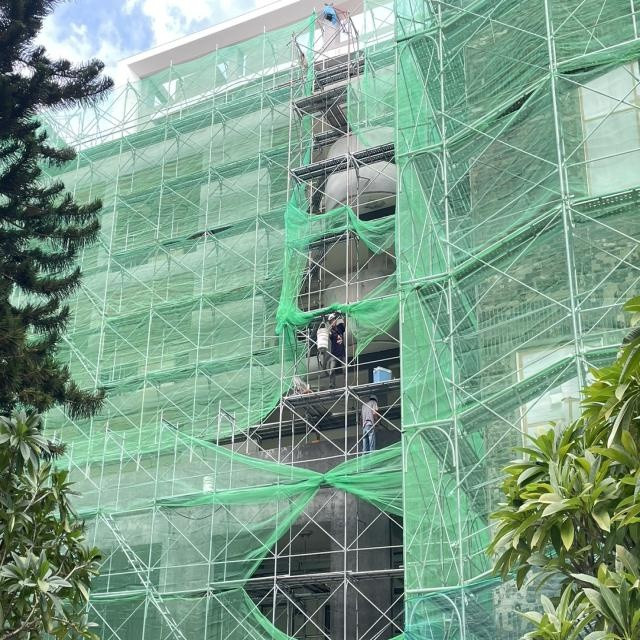Con_Casco: (328, 314, 336, 325), (370, 394, 378, 404)
